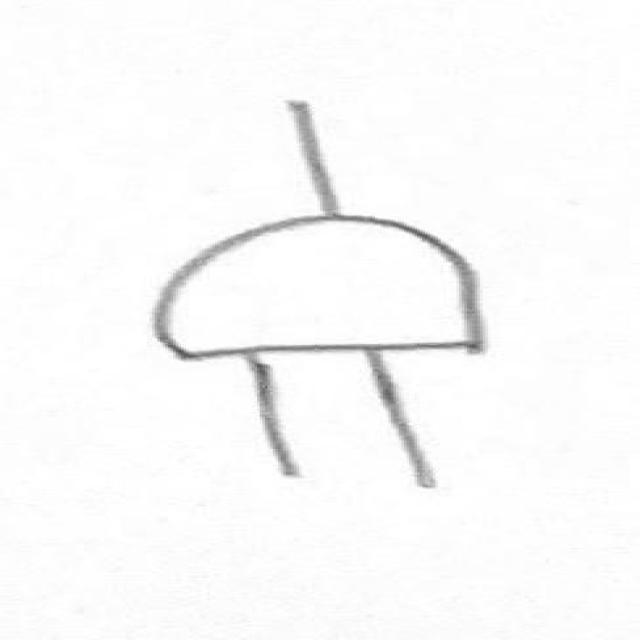AND: (89, 188, 550, 384)
